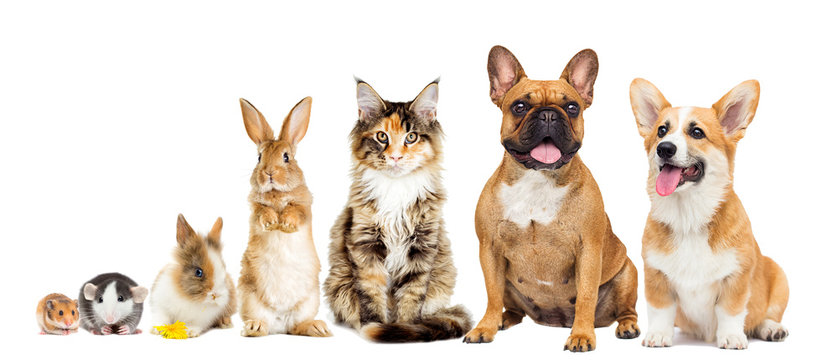cat: (338, 70, 460, 338)
dog: (463, 25, 634, 346), (622, 57, 809, 346)
rabbit: (215, 77, 331, 344), (133, 201, 234, 339)
